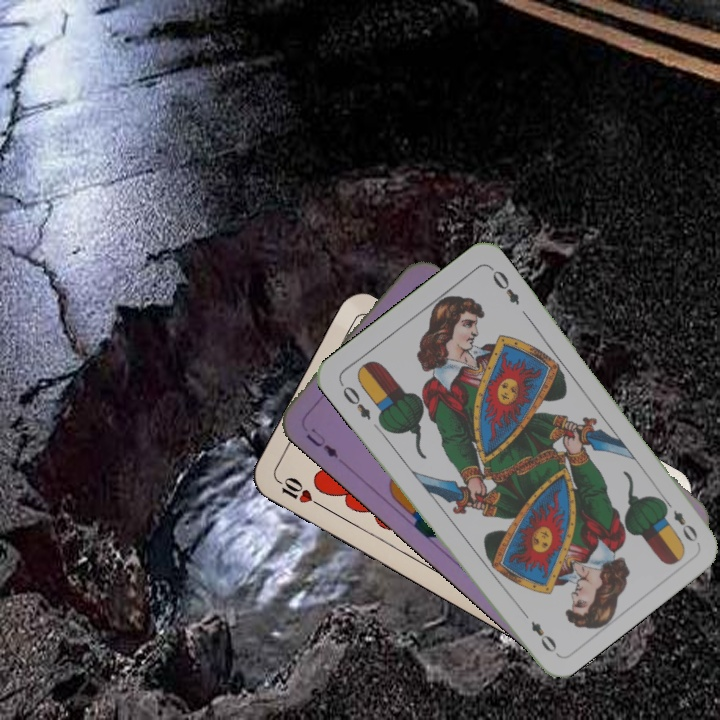EO: (658, 494, 701, 545), (336, 379, 374, 423)
EU: (301, 424, 341, 461)
H10: (270, 472, 324, 509)
